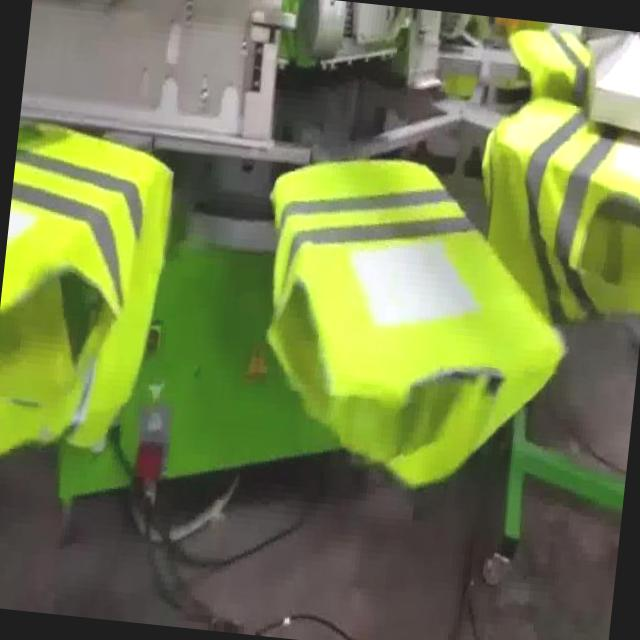vest: (237, 145, 588, 509), (0, 114, 182, 484), (463, 86, 640, 335), (497, 18, 602, 108)
